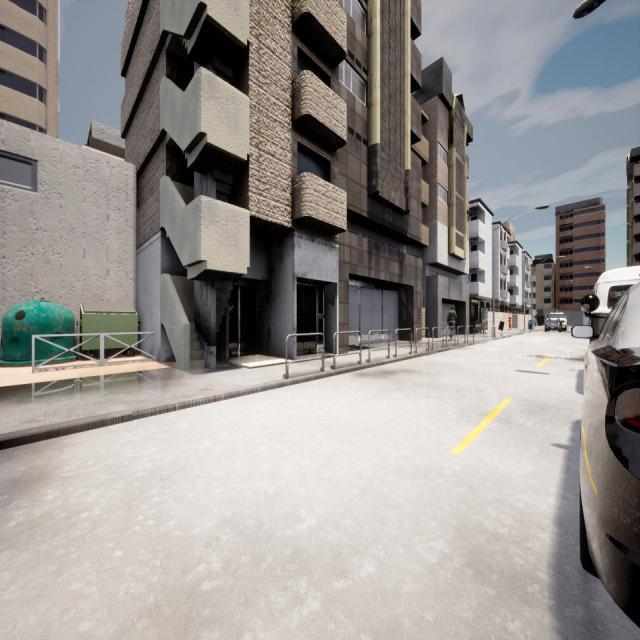Pedestrian: (446, 305, 456, 338), (508, 312, 512, 330)
Traffic_Signs: (532, 310, 537, 315)
Vehicle: (580, 282, 640, 625), (591, 266, 640, 340), (544, 314, 562, 332), (551, 312, 567, 332)
traffic_light: (525, 302, 526, 310)
